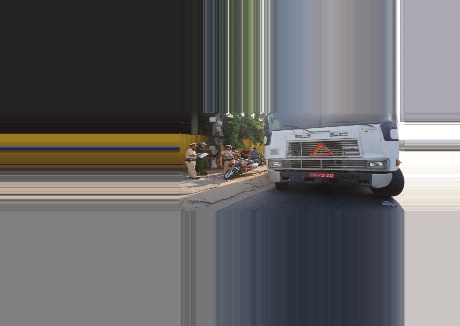plate: (306, 169, 334, 182)
